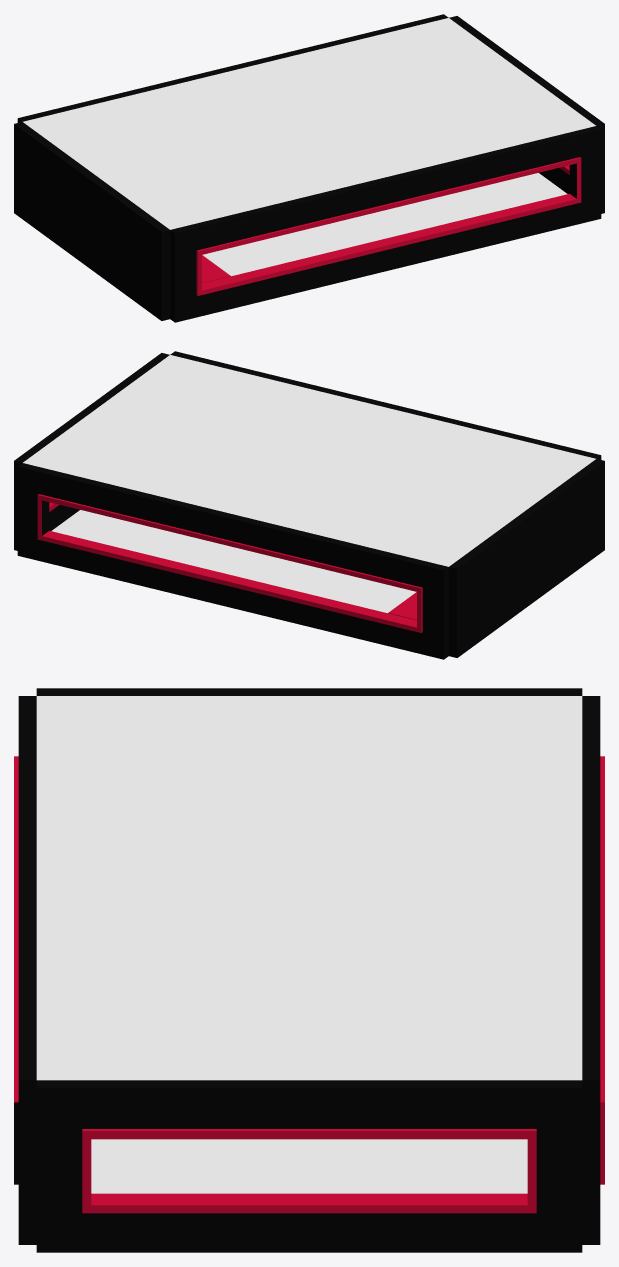
The model's file is vaisseau.fbx.
The picture shows the model from 3 angles, top to bottom: view 1: azimuth 30°, elevation 25°; view 2: azimuth 150°, elevation 25°; view 3: azimuth 270°, elevation 25°; orthographic projection. The views are drawn at different scales.
Parts seen in each view (by area): view 1: morceaux001, morceaux (×6); view 2: morceaux001, morceaux (×6); view 3: morceaux001, morceaux (×5).
Boxes of the visible parts, <box> form: morceaux001: <box>23,18,595,229</box>; morceaux (×6): <box>14,14,604,322</box>; morceaux001: <box>23,355,595,566</box>; morceaux (×6): <box>14,351,604,659</box>; morceaux001: <box>36,696,582,1080</box>; morceaux (×5): <box>14,688,604,1252</box>.
Bounding box in the file's own units: 105 × 20 × 65.
